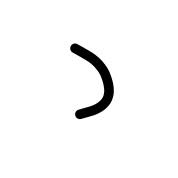a: (50, 35, 127, 134)
